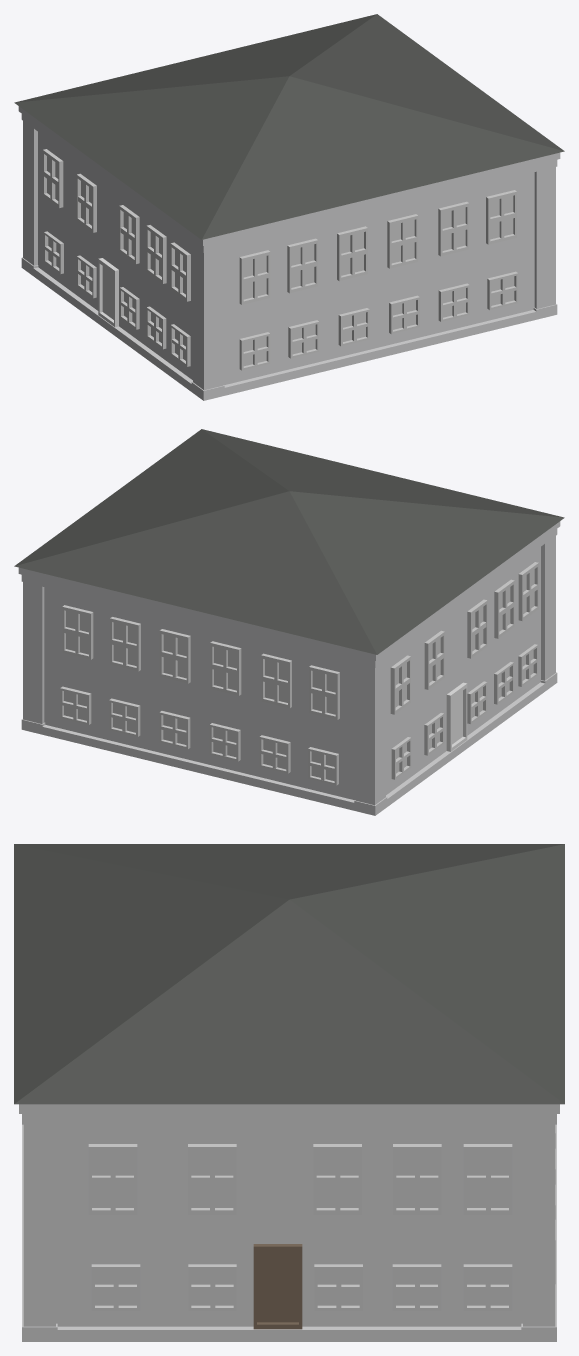
Rendered from voyevoda.glb.
3 renders of one model, top to bottom at view 1: azimuth 30°, elevation 25°; view 2: azimuth 150°, elevation 25°; view 3: azimuth 270°, elevation 25°, orthographic. The views are drawn at different scales.
Parts seen in each view (by area): view 1: Cube.054, Cube.006, Cube.008, Cube.052; view 2: Cube.054, Cube.006, Cube.008, Cube.052; view 3: Cube.054, Cube.006, Cube.008, Cube.053.
Part boxes in pixels (x1,y1,x2,y2): Cube.054: [14, 14, 564, 239]; Cube.006: [18, 106, 560, 400]; Cube.008: [43, 149, 518, 370]; Cube.052: [98, 258, 118, 327]; Cube.054: [14, 429, 564, 654]; Cube.006: [18, 521, 560, 815]; Cube.008: [60, 562, 538, 785]; Cube.052: [446, 682, 467, 751]; Cube.054: [14, 844, 564, 1104]; Cube.006: [19, 1104, 559, 1341]; Cube.008: [88, 1125, 555, 1310]; Cube.053: [253, 1244, 302, 1329].
Bounding box in the file's own units: 1.9 × 1.07 × 1.7.
